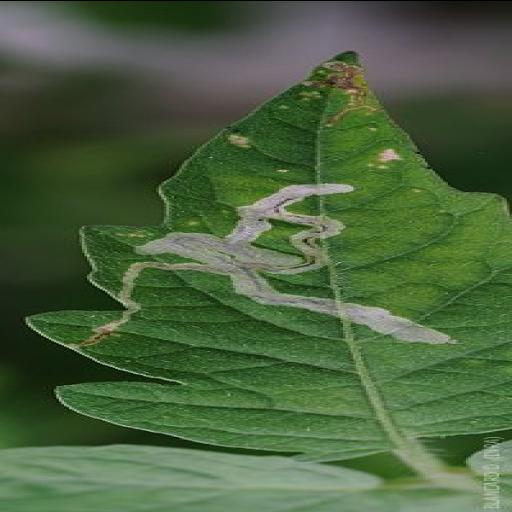disease_tomato: (24, 48, 512, 458)
